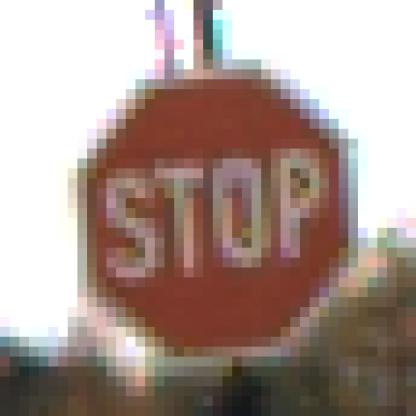Stop: (78, 71, 357, 353)
